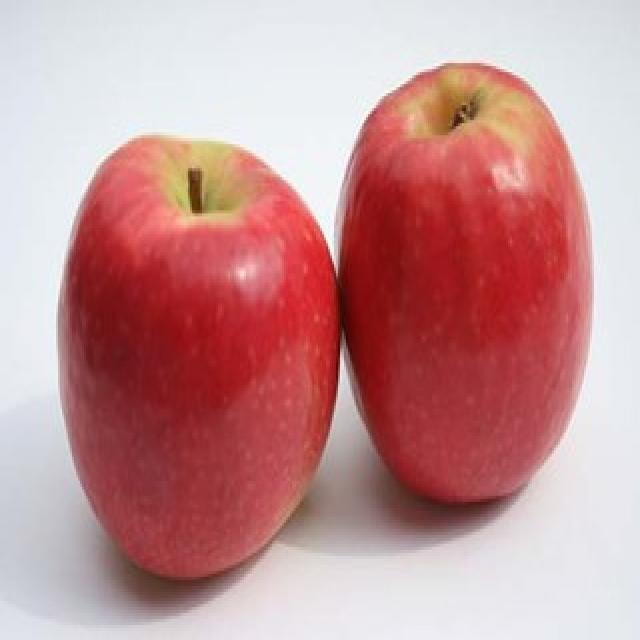Apple: (59, 127, 340, 589), (339, 56, 596, 506)
